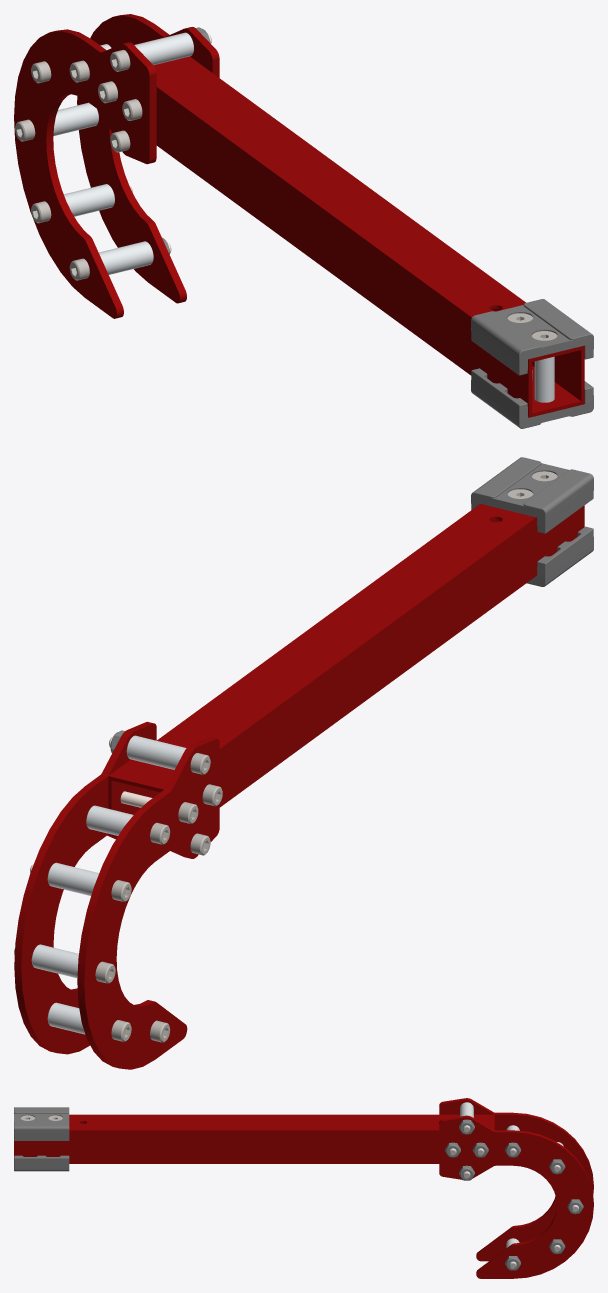
3 views of the same model, one above another, from view 1: azimuth 30°, elevation 25°; view 2: azimuth 150°, elevation 25°; view 3: azimuth 270°, elevation 25° (orthographic). The views are drawn at different scales.
Parts seen in each view (by area): view 1: tube 2, am-4654 Climber In A Box Hook Plate (×2), am-4630 1x1 Clamp Slider Block (×2), am-3876 1000long .192ID Aluminum Spacer (×4), am-xxxx 5-16OD x .875 10-32 Round AL Standoff_93330A475; view 2: tube 2, am-4654 Climber In A Box Hook Plate (×2), am-4630 1x1 Clamp Slider Block (×2), am-3876 1000long .192ID Aluminum Spacer (×5); view 3: tube 2, am-4654 Climber In A Box Hook Plate (×2), am-4630 1x1 Clamp Slider Block (×2).
Boxes of the visible parts, box(x1,y1,x2,y2) form: tube 2: box(134, 37, 584, 417); am-4654 Climber In A Box Hook Plate (×2): box(14, 14, 219, 318); am-4630 1x1 Clamp Slider Block (×2): box(471, 299, 593, 428); am-3876 1000long .192ID Aluminum Spacer (×4): box(53, 32, 193, 274); am-xxxx 5-16OD x .875 10-32 Round AL Standoff_93330A475: box(534, 356, 554, 402); tube 2: box(108, 504, 584, 836); am-4654 Climber In A Box Hook Plate (×2): box(14, 721, 219, 1069); am-4630 1x1 Clamp Slider Block (×2): box(471, 457, 593, 586); am-3876 1000long .192ID Aluminum Spacer (×5): box(31, 735, 186, 1034); tube 2: box(14, 1114, 494, 1163); am-4654 Climber In A Box Hook Plate (×2): box(439, 1098, 593, 1278); am-4630 1x1 Clamp Slider Block (×2): box(14, 1107, 69, 1171).
Size of the model in its own units: 0.0429 by 0.1222 by 0.3985.
